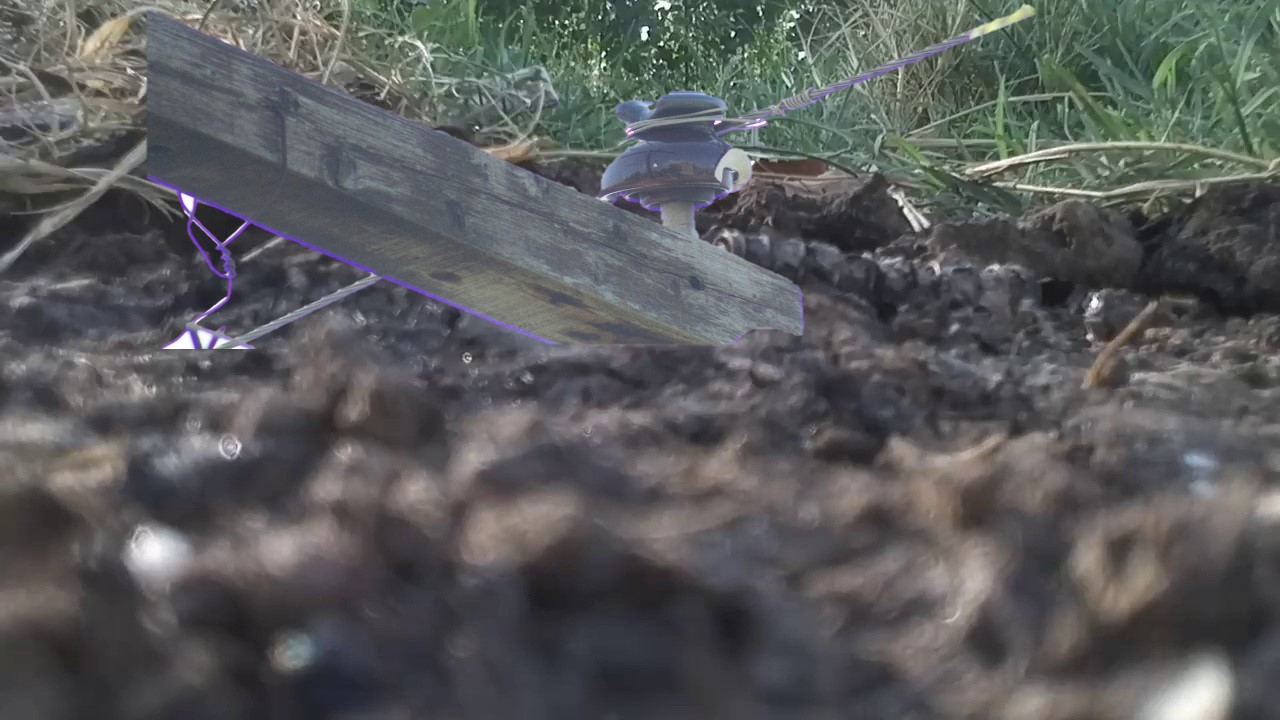defect_pin: (595, 84, 761, 211)
